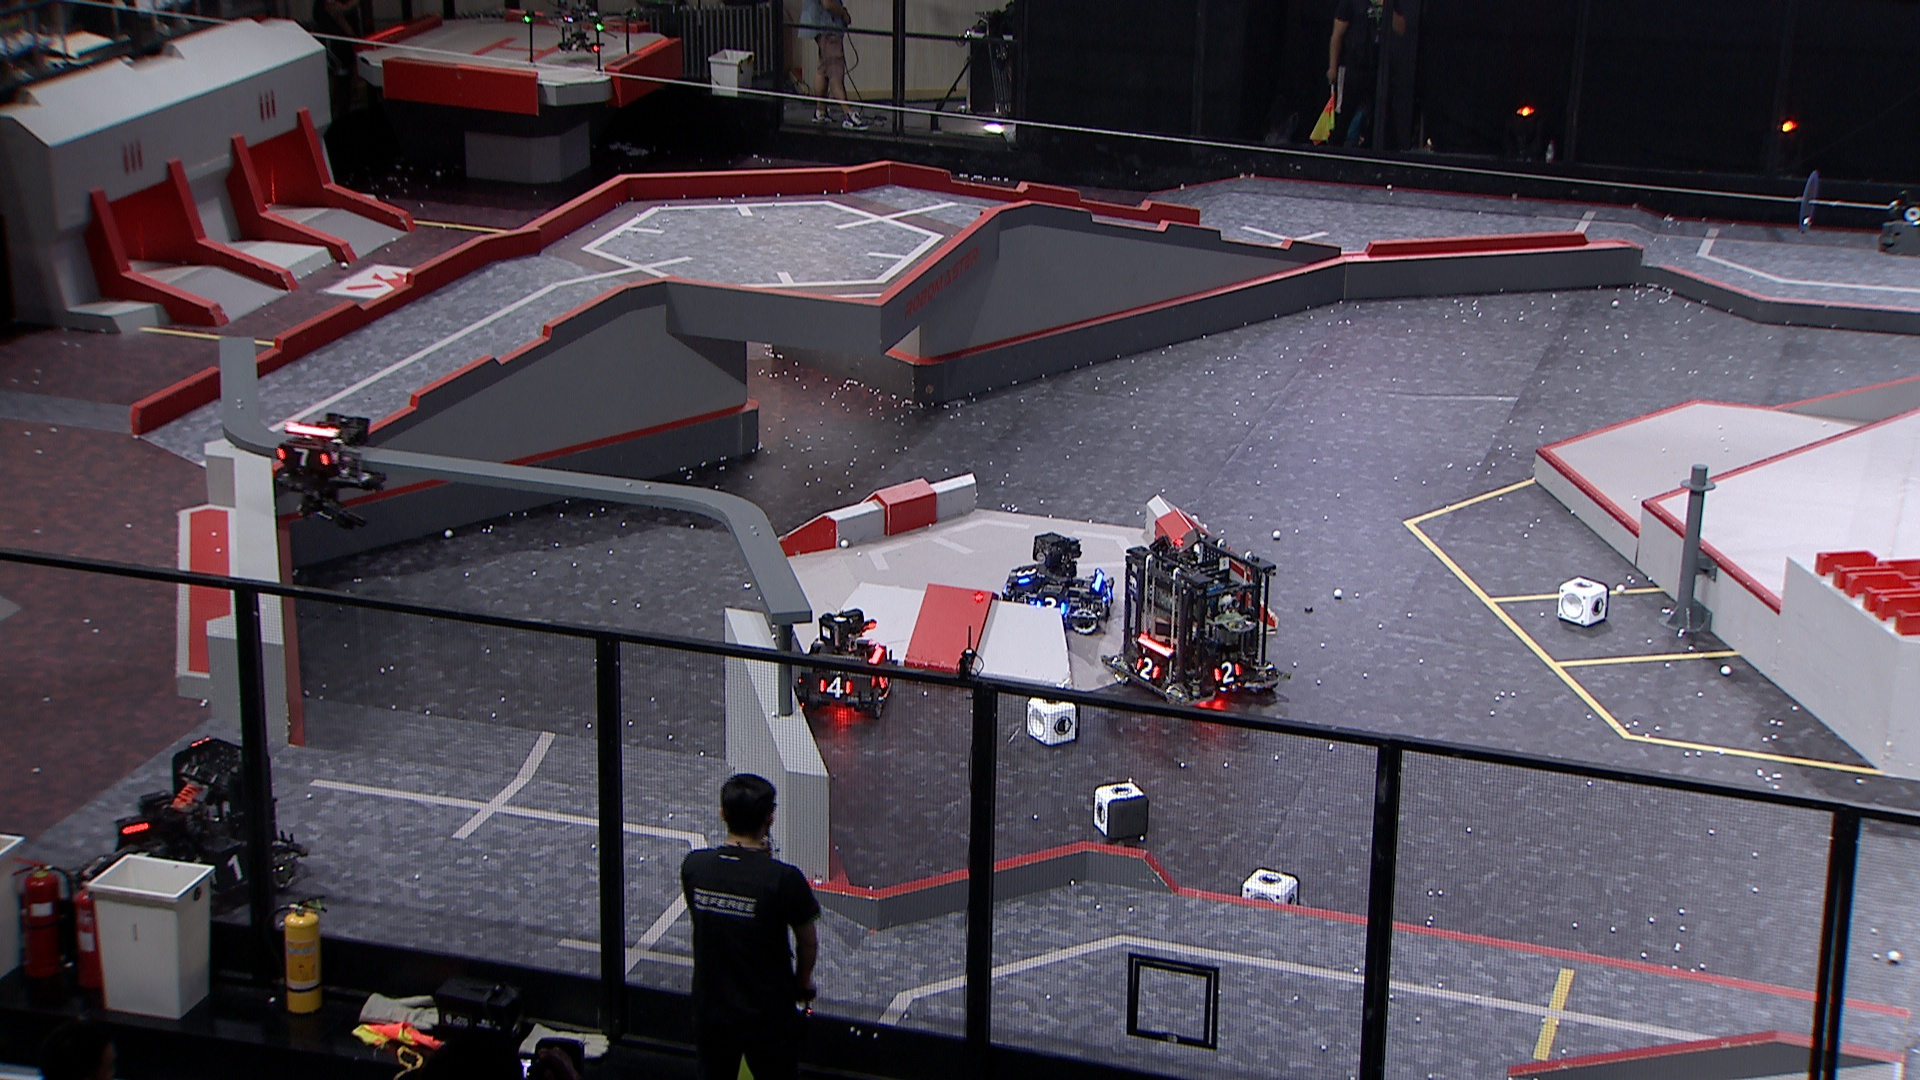armor: (276, 444, 330, 471), (208, 855, 251, 887), (818, 673, 855, 702), (1211, 659, 1244, 683), (1135, 654, 1162, 680), (1035, 595, 1069, 615), (1015, 566, 1039, 585)
car: (74, 736, 311, 926), (1101, 531, 1292, 712), (997, 531, 1120, 637), (793, 605, 897, 721)
watcher: (272, 411, 385, 533)
